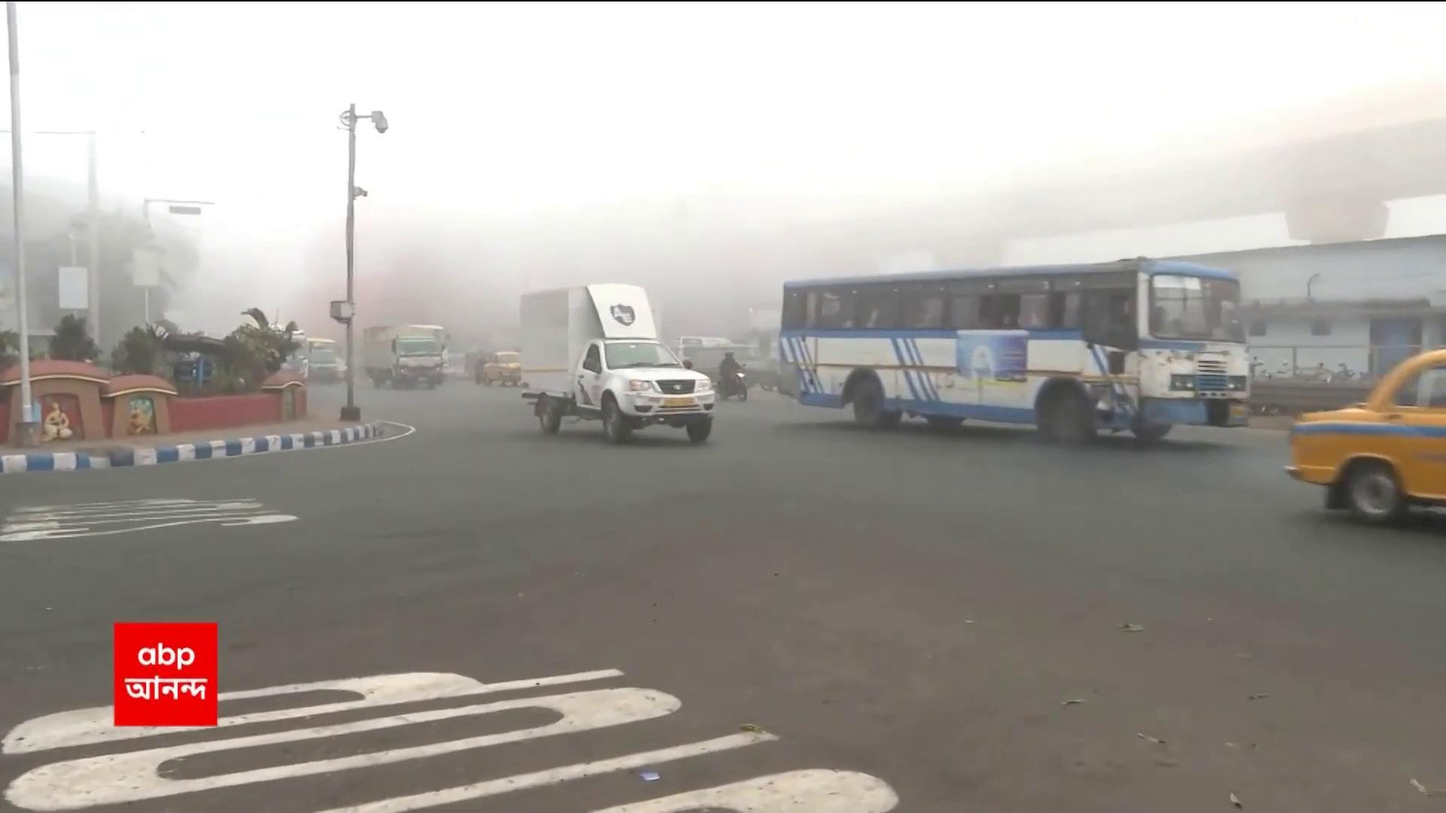Bike: (714, 349, 752, 403)
Bus: (774, 254, 1255, 450)
Truck: (516, 280, 715, 448), (362, 322, 447, 388)
